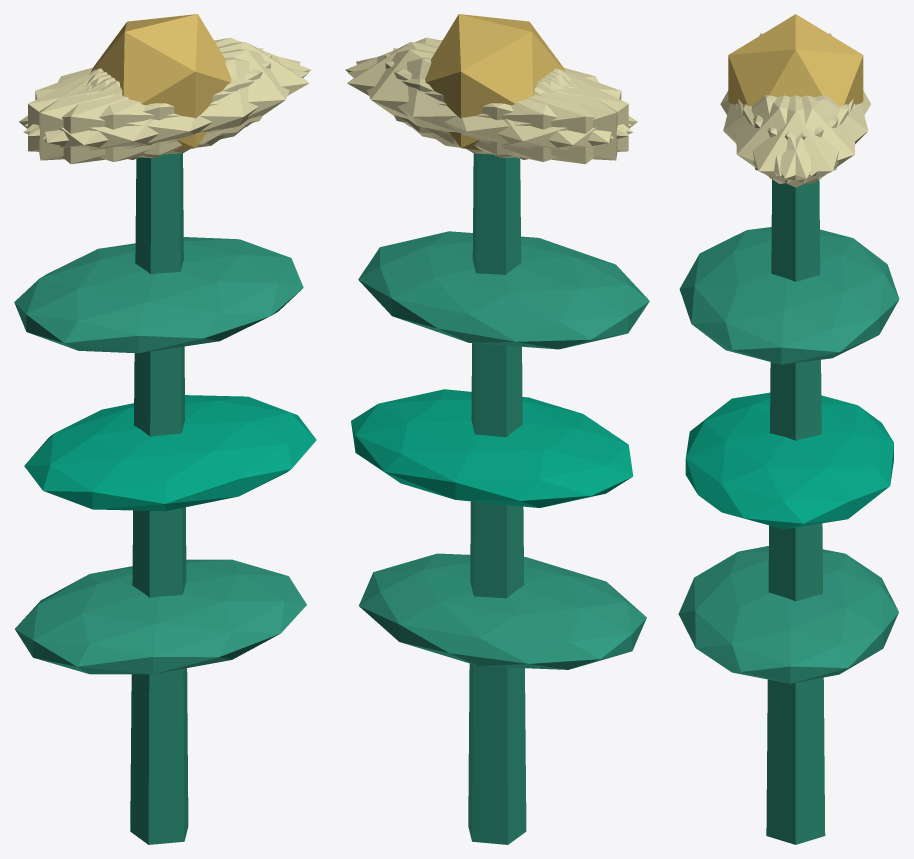
Rendered from heptapleurum-arboricola.glb.
3 renders of one model, left to right at view 1: azimuth 30°, elevation 25°; view 2: azimuth 150°, elevation 25°; view 3: azimuth 270°, elevation 25°, orthographic.
Visible parts, largest first — view 1: stem, leaf2, leaf0, leaf1, center, petal1, petal6, petal2, petal5, petal7, petal0, petal4 (+2 smaller); view 2: stem, leaf2, leaf0, leaf1, center, petal8, petal3, petal7, petal4, petal2, petal0, petal5 (+2 smaller); view 3: stem, leaf2, leaf1, leaf0, center, petal0, petal5, petal4, petal1, petal8.
Part boxes in pixels (x1,y1,x2,y2): stem: (130, 153, 188, 844); leaf2: (14, 237, 303, 353); leaf0: (15, 559, 306, 674); leaf1: (24, 395, 316, 511); center: (91, 14, 231, 150); petal1: (23, 57, 308, 161); petal6: (19, 70, 225, 164); petal2: (39, 48, 263, 160); petal5: (42, 49, 300, 154); petal7: (28, 54, 271, 157); petal0: (90, 42, 309, 144); petal4: (25, 37, 310, 136); stem: (468, 153, 526, 844); leaf2: (358, 231, 649, 349); leaf0: (359, 553, 646, 669); leaf1: (351, 389, 633, 507); center: (425, 14, 565, 150); petal8: (348, 57, 632, 161); petal3: (431, 70, 637, 164); petal7: (393, 48, 617, 160); petal4: (356, 49, 613, 154); petal2: (385, 54, 628, 157); petal0: (347, 42, 565, 144); petal5: (345, 37, 631, 136); stem: (766, 179, 825, 844); leaf2: (679, 227, 899, 364); leaf1: (685, 392, 893, 529); leaf0: (678, 546, 898, 683); center: (728, 14, 863, 106); petal0: (738, 95, 853, 187); petal5: (736, 95, 848, 184); petal4: (743, 95, 855, 183); petal1: (723, 95, 838, 176); petal8: (753, 95, 868, 176).
Bounding box in the file's own units: 0.1452 × 0.4002 × 0.1002.
